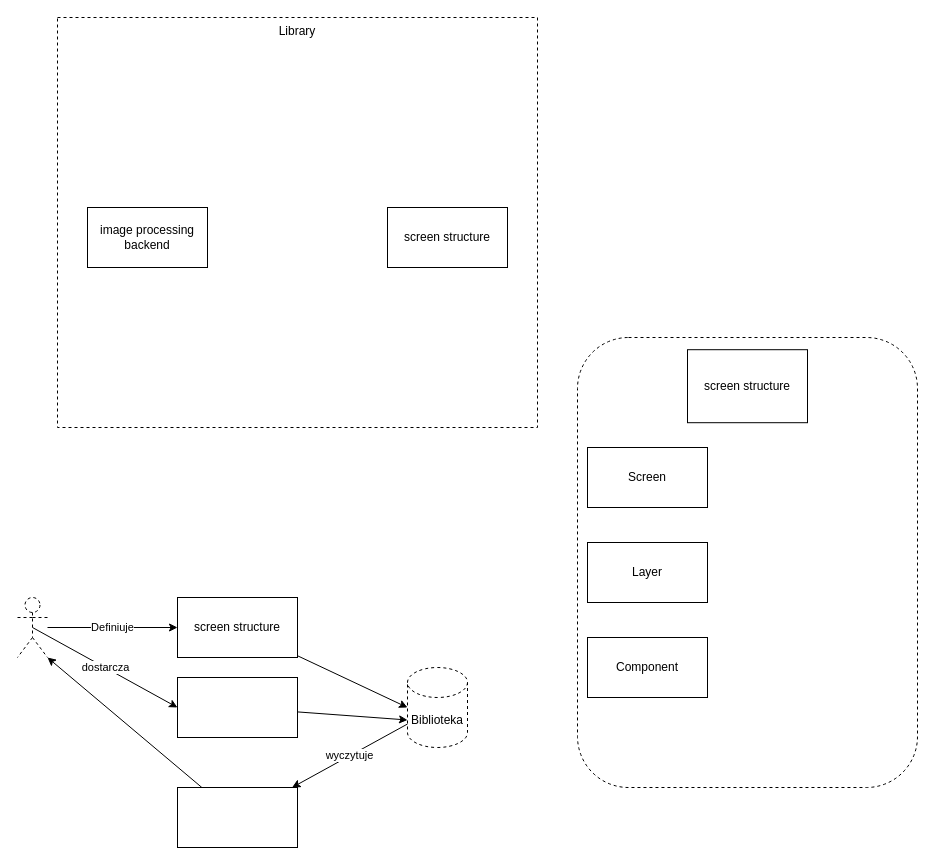
Image size: 935x865. Some labels were removed from this diagram. The shapes that lost their labels are listed below. From the top down, each one's centre as x and y in pixels, then its label:
point (32, 627): Actor
point (237, 707): screenshot
point (237, 817): odczytana strukture obrazu
